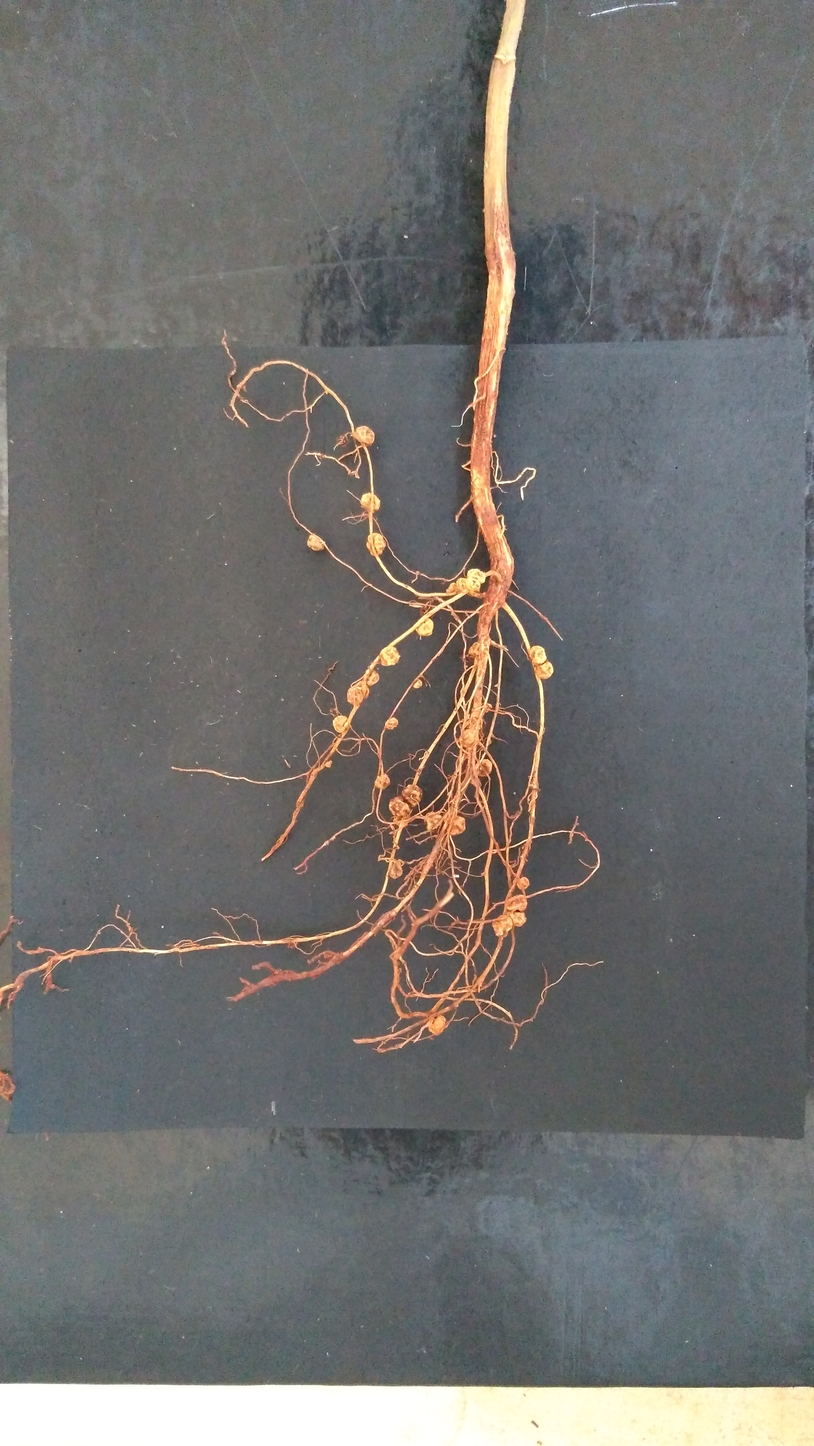nodule: (347, 680, 369, 705), (388, 794, 412, 816), (401, 784, 422, 807), (492, 915, 513, 937), (366, 533, 386, 556), (459, 728, 478, 750), (380, 646, 400, 666), (446, 814, 465, 835), (353, 426, 375, 444), (534, 660, 553, 680), (424, 811, 442, 832), (506, 894, 527, 912), (429, 1015, 446, 1036), (361, 493, 380, 511), (529, 646, 547, 665), (507, 910, 527, 927), (415, 618, 433, 636), (475, 758, 492, 777), (458, 578, 480, 592), (332, 715, 349, 733), (307, 534, 324, 551), (363, 669, 380, 686), (467, 568, 485, 584), (388, 860, 403, 879), (374, 774, 390, 789), (469, 714, 483, 730), (420, 607, 436, 619), (516, 877, 530, 890), (385, 717, 398, 730), (336, 435, 349, 448), (468, 642, 480, 656), (446, 583, 456, 594), (322, 950, 334, 959), (483, 702, 492, 713), (413, 680, 422, 689), (325, 760, 332, 768), (319, 454, 326, 460), (465, 665, 468, 668)
